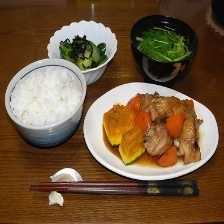rice: (7, 61, 86, 126)
